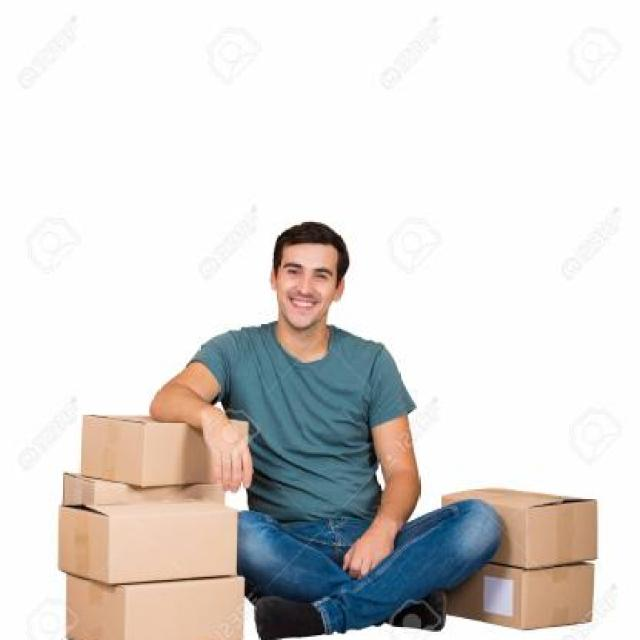box: (44, 470, 244, 577), (74, 399, 274, 494), (53, 555, 266, 640), (437, 474, 615, 571), (454, 556, 606, 637)
